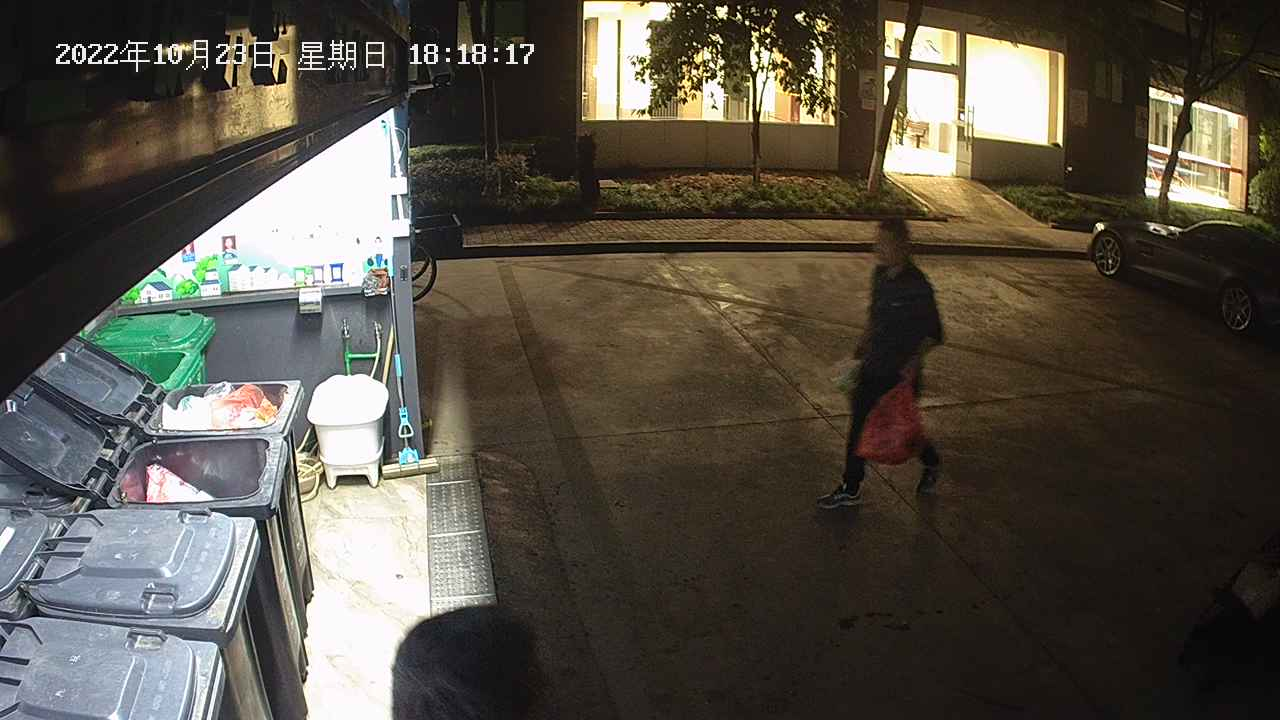garbage-bag: (850, 366, 929, 468)
person: (814, 216, 949, 510)
